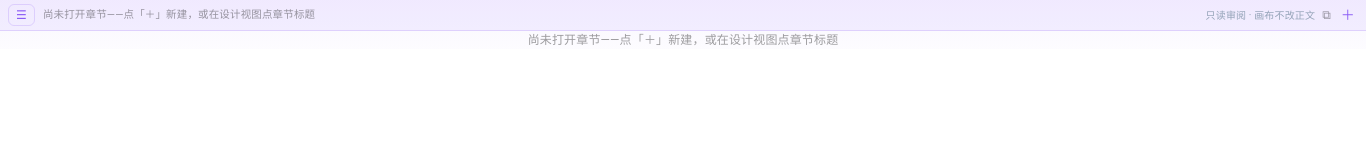
Scenario: 正文页签 · 章节目录树形下拉（回归锁） › 搜索命中子章节 → 保留祖先链（父级仍可见、缩进不塌），无关卷隐藏
Later steps or results of the test are not shown.
Click the text "☰": (21,15) top-left (8, 4), bottom-right (35, 26)
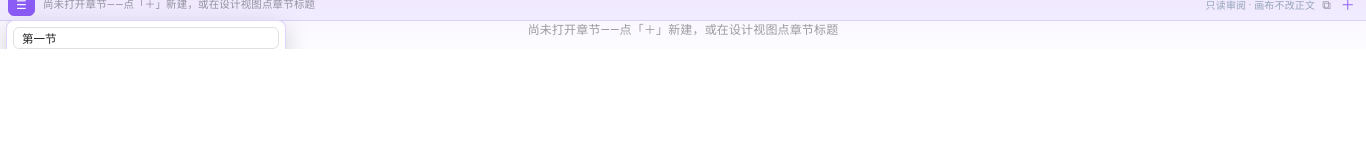
Now the field is shown, box top-left (13, 27), bottom-right (279, 49)
